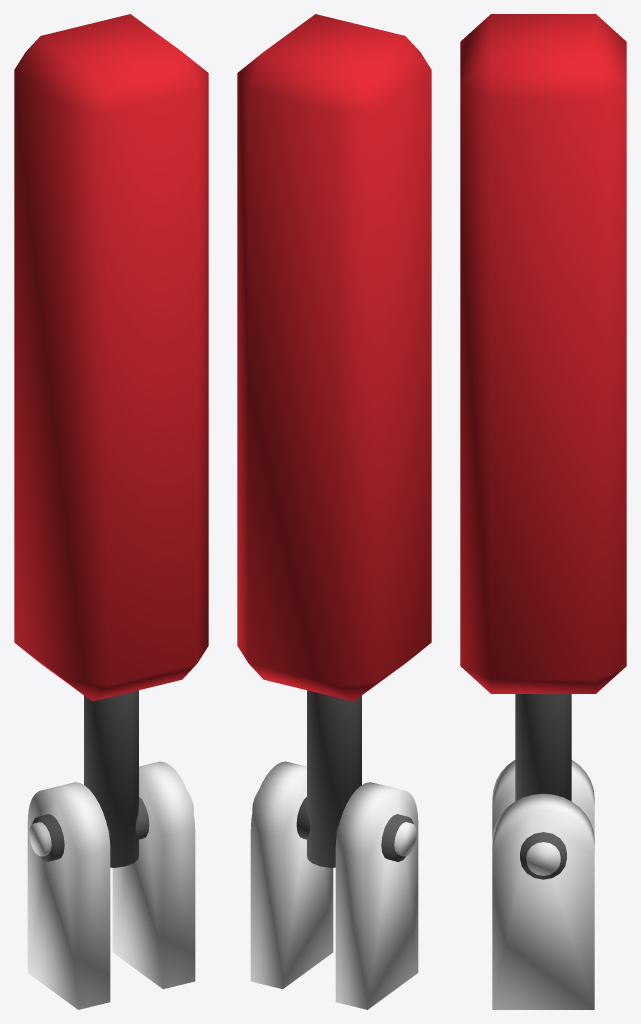
File: Obstacle 22 V1.fbx
3 views of the same model, side by side, from view 1: azimuth 30°, elevation 25°; view 2: azimuth 150°, elevation 25°; view 3: azimuth 270°, elevation 25° (orthographic).
Visible parts, largest first — view 1: O22 Part 2, O22 Part 1; view 2: O22 Part 2, O22 Part 1; view 3: O22 Part 2, O22 Part 1.
Boxes of the visible parts, x1,y1,x2,y2 form: O22 Part 2: (14,14,208,867); O22 Part 1: (27,761,195,1009); O22 Part 2: (237,14,431,867); O22 Part 1: (250,761,418,1009); O22 Part 2: (460,14,626,879); O22 Part 1: (492,760,594,1009).
Bounding box in the file's own units: 64.76 × 391 × 62.5.
1 material, 1 textured.
